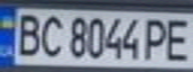0: (84, 13, 106, 60)
4: (121, 15, 145, 61), (103, 15, 127, 60)
8: (63, 12, 90, 59)
B: (9, 10, 45, 57)
C: (36, 11, 66, 58)
E: (160, 15, 193, 62)
P: (139, 15, 172, 61)
